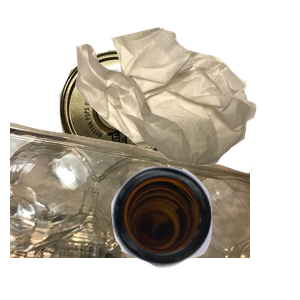glass: (109, 164, 300, 300)
metal: (57, 47, 227, 211)
plastic: (10, 120, 250, 300)
trash: (73, 25, 300, 183)
